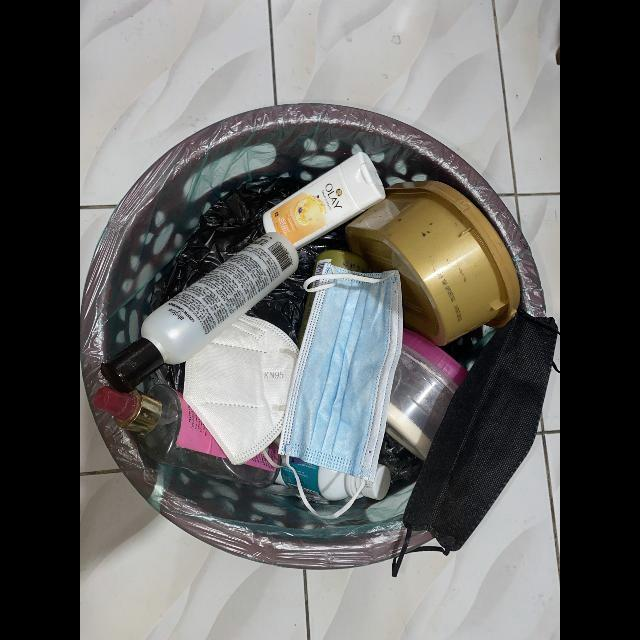plastic_bottle: (101, 232, 300, 394), (93, 385, 279, 490), (263, 152, 386, 250), (278, 455, 390, 500)
plastic_container: (344, 181, 521, 347), (386, 325, 470, 460)
